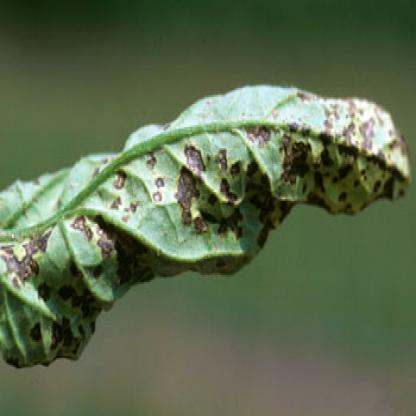Tomato leaf bacterial spot: (4, 78, 411, 375)
